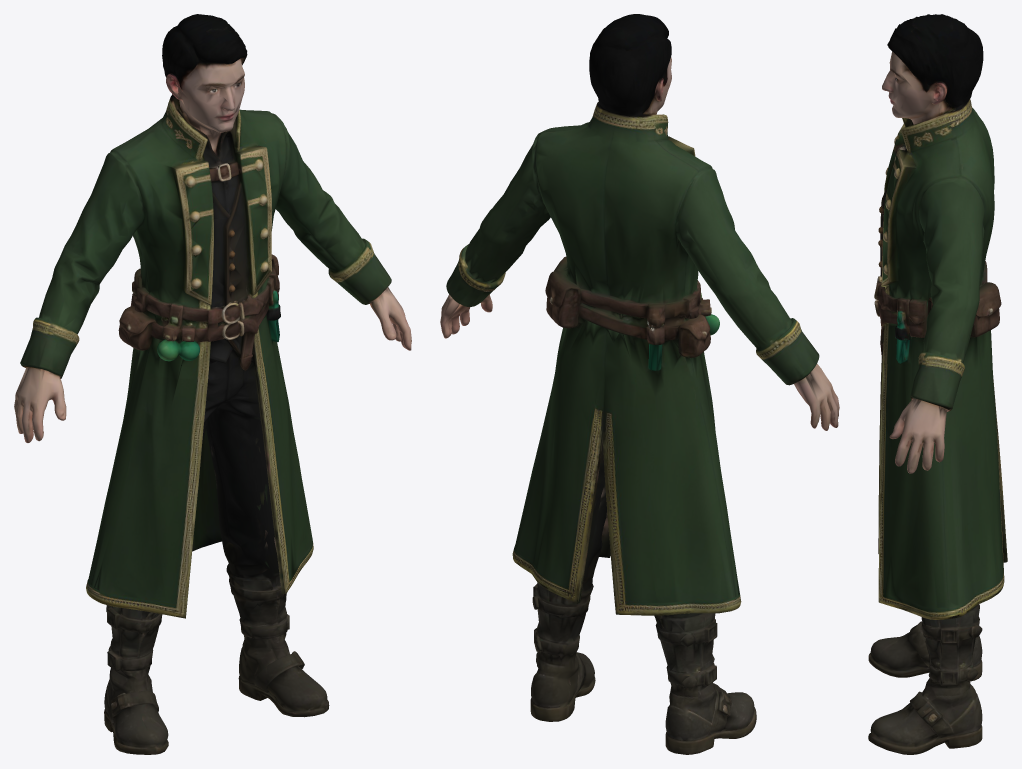
The model's file is witch.glb.
3 views of the same model, side by side, from view 1: azimuth 30°, elevation 25°; view 2: azimuth 150°, elevation 25°; view 3: azimuth 270°, elevation 25° (orthographic).
Parts seen in each view (by area): view 1: material; view 2: material; view 3: material.
Part boxes in pixels (x1=…): material: x1=14, y1=14, x2=411, y2=754; material: x1=440, y1=14, x2=839, y2=754; material: x1=868, y1=14, x2=1007, y2=754.
Bounding box in the file's own units: 1.02 × 1.76 × 0.323.
1 material, 1 textured.
